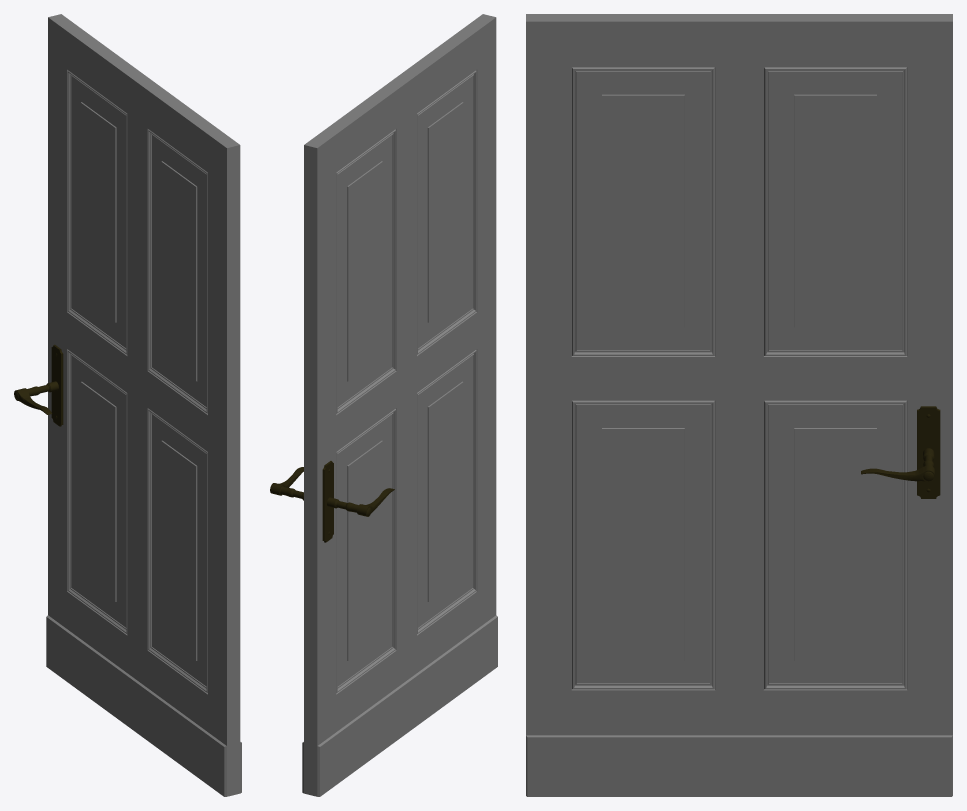
The model's file is nijika_door.obj.
3 views of the same model, side by side, from view 1: azimuth 30°, elevation 25°; view 2: azimuth 150°, elevation 25°; view 3: azimuth 270°, elevation 25° (orthographic). The views are drawn at different scales.
Parts seen in each view (by area): view 1: Door_0, doorHandle_0; view 2: Door_0, doorHandle_0; view 3: Door_0, doorHandle_0.
Part boxes in pixels (x1,y1,x2,y2): Door_0: (46,14,241,796); doorHandle_0: (14,344,63,426); Door_0: (302,14,497,796); doorHandle_0: (270,461,394,542); Door_0: (526,14,952,796); doorHandle_0: (861,406,940,498).
Bounding box in the file's own units: 0.6892 × 4.35 × 2.17.
